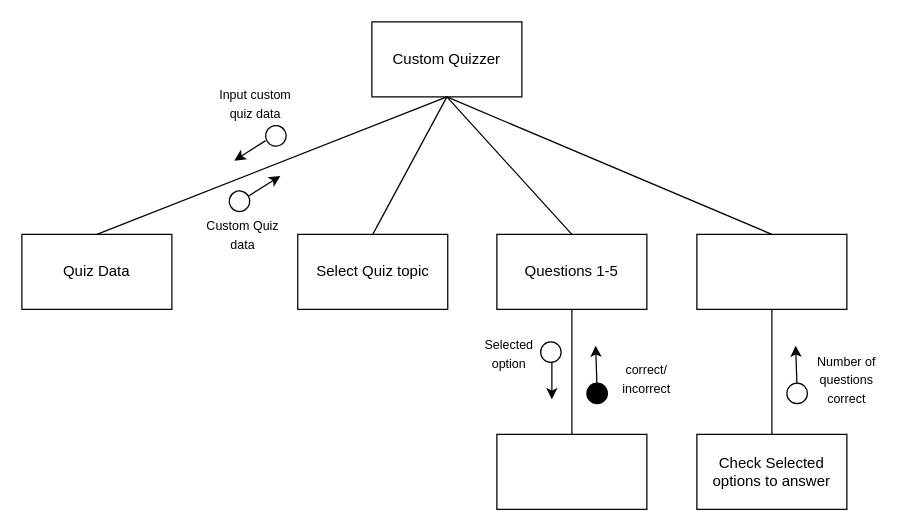
This 906x531 diagram has some shape labels left out. The shapes that lost their labels are listed below. From the top down, each one's centre as x and y in pixels, then its label:
At point (771, 271): "Display Score".
At point (571, 471): "Check option is correct/incorrect".
